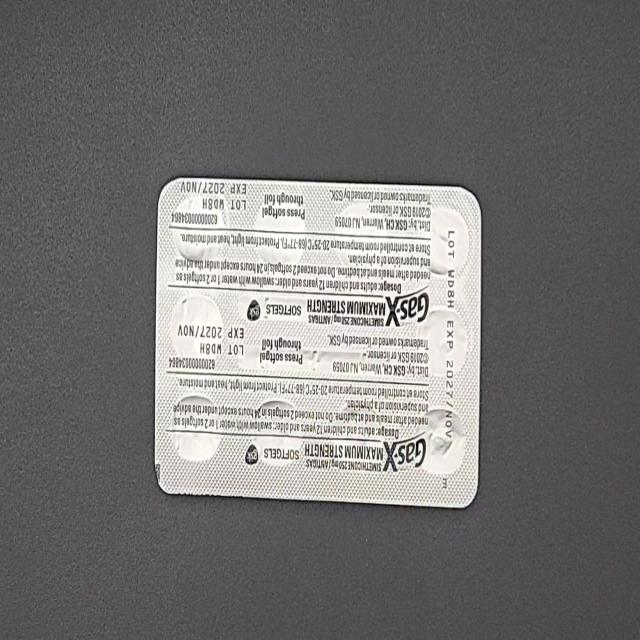no defect: (10, 23, 32, 64)
